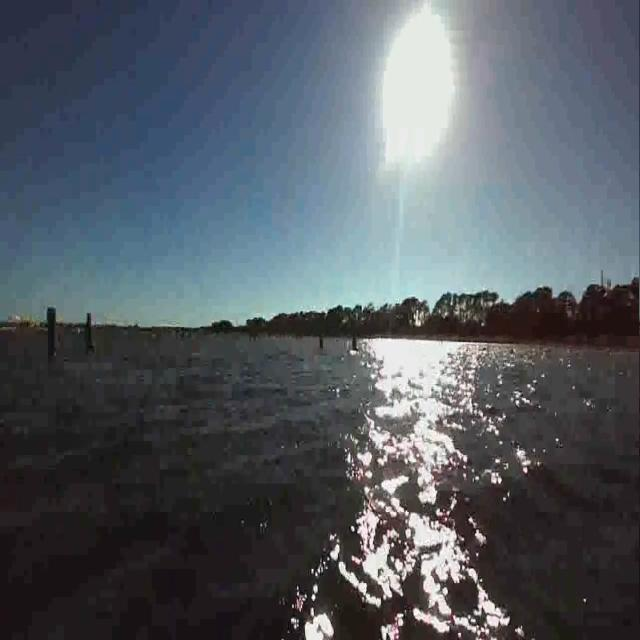green-column-buoy: (43, 304, 58, 356)
